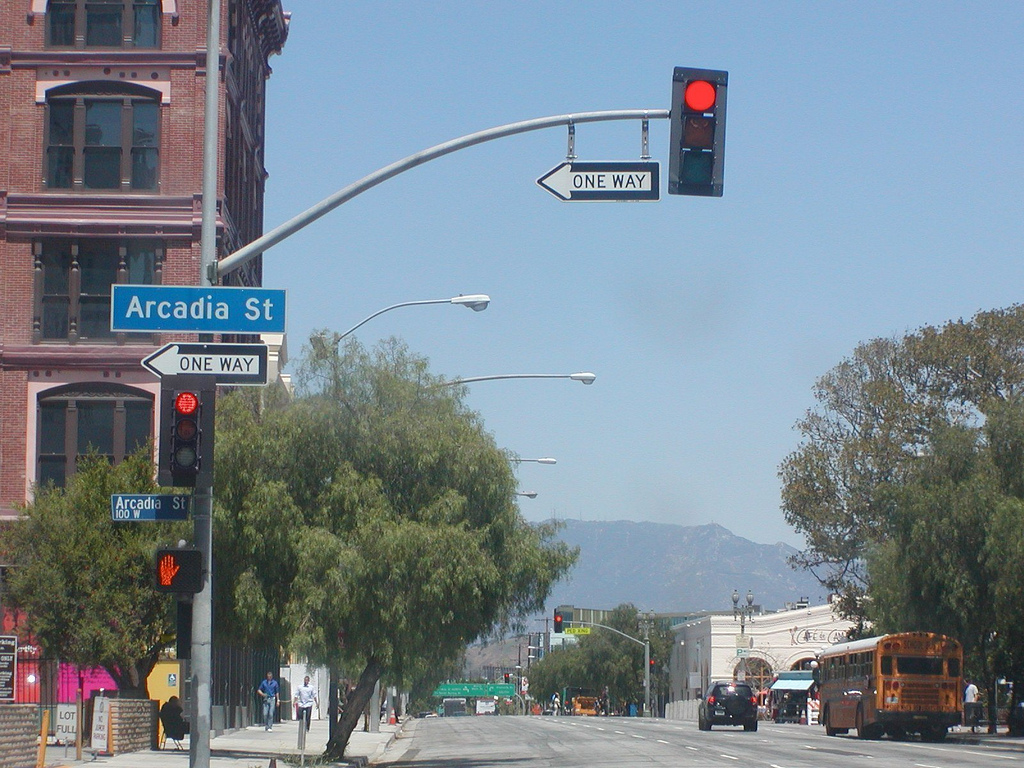traffic_light: (666, 64, 731, 199), (168, 387, 202, 475)
